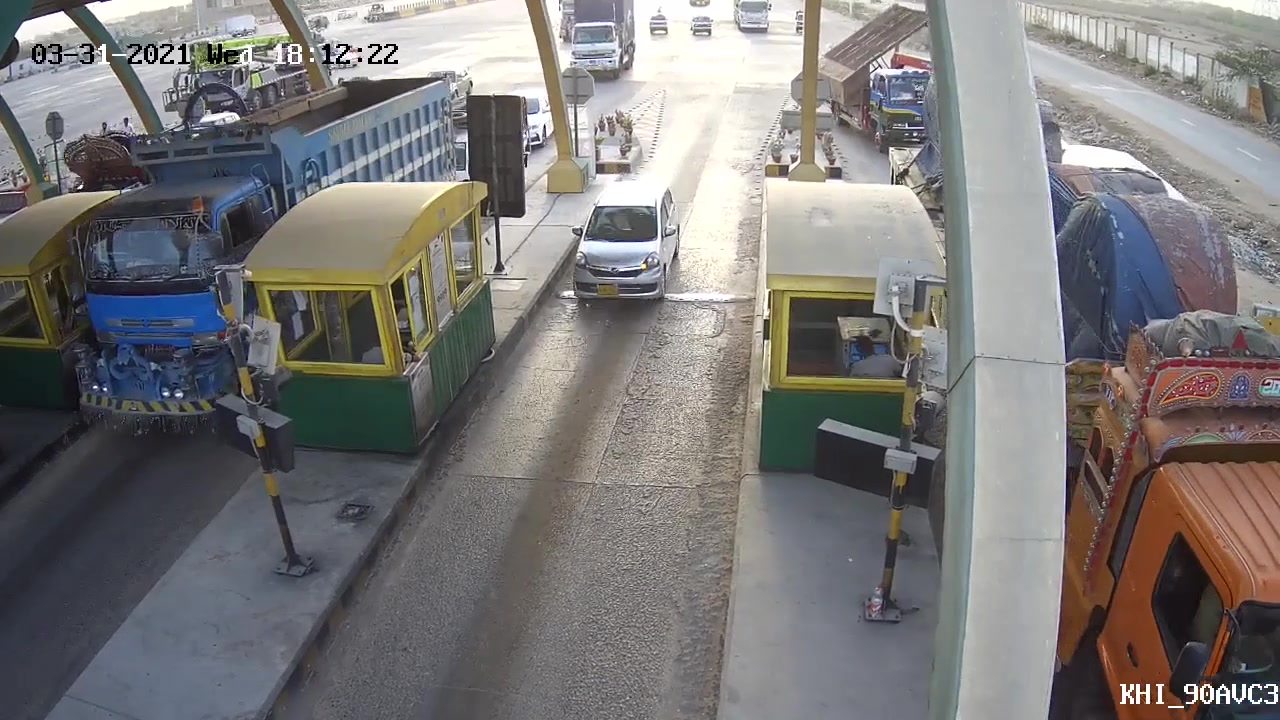F1: (562, 181, 683, 301)
